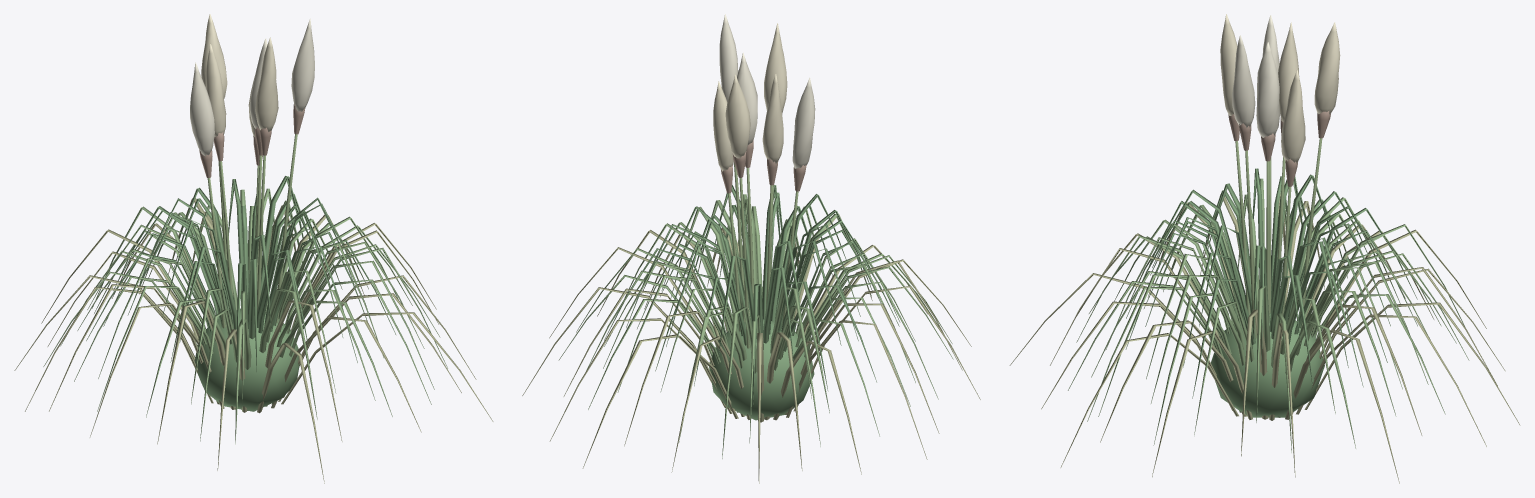
Rendered from pampas_cortadera_5.glb.
The picture shows the model from 3 angles, left to right: view 1: azimuth 30°, elevation 25°; view 2: azimuth 150°, elevation 25°; view 3: azimuth 270°, elevation 25°; orthographic projection. The views are drawn at different scales.
Parts seen in each view (by area): view 1: CortBladeDeep, CortBladeMid, CortBladeDry, CortPlumeGold, CortPlumeSilk, CortStalks, CortSheaths; view 2: CortBladeDeep, CortBladeMid, CortBladeDry, CortPlumeGold, CortPlumeSilk, CortStalks, CortSheaths; view 3: CortBladeDeep, CortBladeMid, CortBladeDry, CortPlumeGold, CortPlumeSilk, CortStalks, CortSheaths.
Part boxes in pixels (x1,y1,x2,y2): CortBladeDeep: (86, 176, 395, 411); CortBladeMid: (43, 188, 447, 444); CortBladeDry: (14, 198, 493, 483); CortPlumeGold: (201, 14, 278, 136); CortPlumeSilk: (190, 18, 314, 156); CortStalks: (207, 134, 297, 328); CortSheaths: (199, 104, 305, 177); CortBladeDeep: (604, 184, 899, 420); CortBladeMid: (558, 194, 953, 458); CortBladeDry: (522, 214, 980, 483); CortPlumeGold: (713, 23, 787, 171); CortPlumeSilk: (719, 14, 815, 168); CortStalks: (728, 162, 798, 348); CortSheaths: (721, 139, 806, 193); CortBladeDeep: (1125, 168, 1417, 417); CortBladeMid: (1068, 178, 1469, 452); CortBladeDry: (1009, 193, 1520, 483); CortPlumeGold: (1220, 14, 1340, 163); CortPlumeSilk: (1232, 15, 1280, 137); CortStalks: (1235, 138, 1322, 339); CortSheaths: (1228, 111, 1330, 186).
Bounding box in the file's own units: 2.29 × 2.08 × 2.43.
